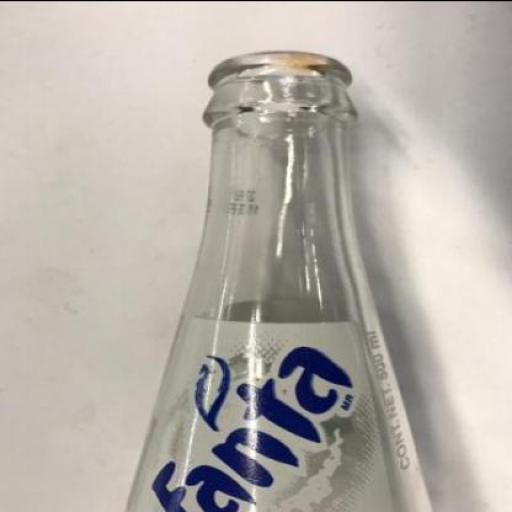glass: (124, 49, 434, 511)
